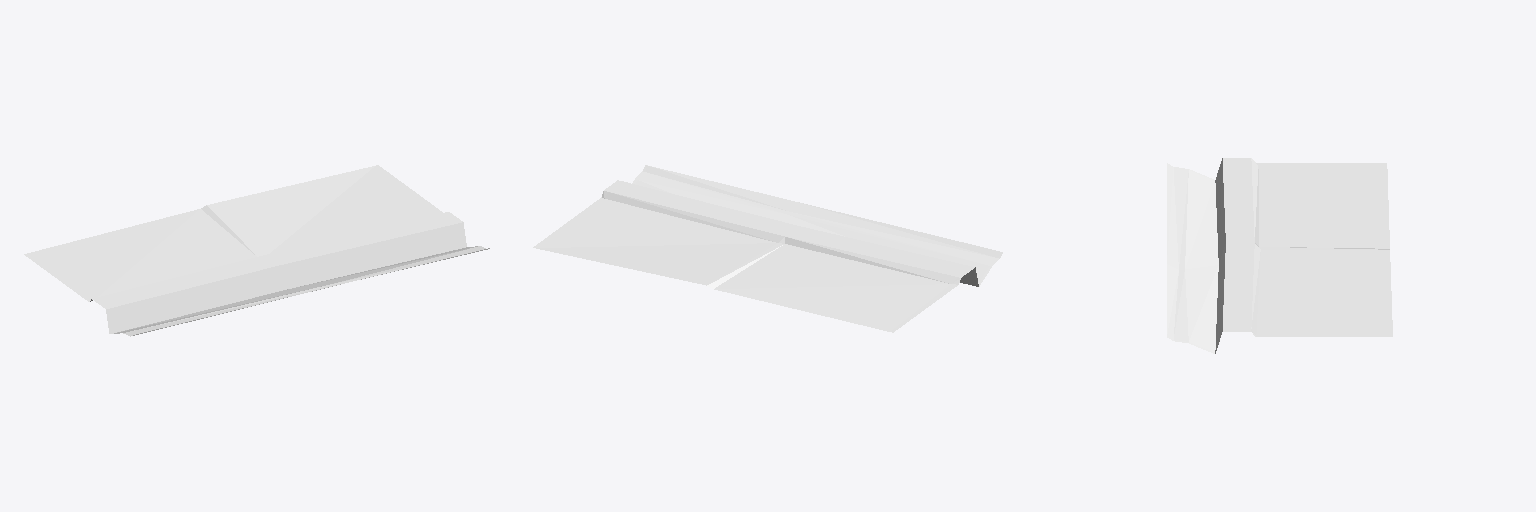
File: street_side.obj
The picture shows the model from 3 angles: view 1: azimuth 30°, elevation 25°; view 2: azimuth 150°, elevation 25°; view 3: azimuth 270°, elevation 25°; orthographic projection.
Visible parts, largest first — view 1: SM_Env_Sidewalk_Straight_01_Mesh; view 2: SM_Env_Sidewalk_Straight_01_Mesh; view 3: SM_Env_Sidewalk_Straight_01_Mesh.
Boxes of the visible parts, box(x1,y1,x2,y2) form: SM_Env_Sidewalk_Straight_01_Mesh: box(24, 165, 489, 336); SM_Env_Sidewalk_Straight_01_Mesh: box(533, 165, 1002, 332); SM_Env_Sidewalk_Straight_01_Mesh: box(1167, 158, 1392, 353).
Bounding box in the file's own units: 0.05 × 0.003 × 0.0274.